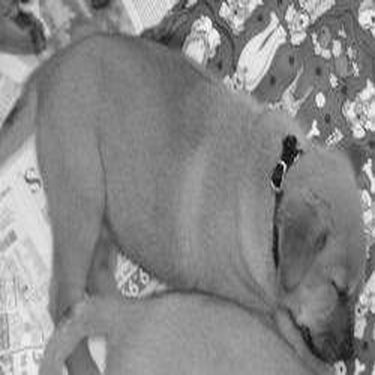dog: (1, 26, 369, 373), (28, 224, 351, 371)
